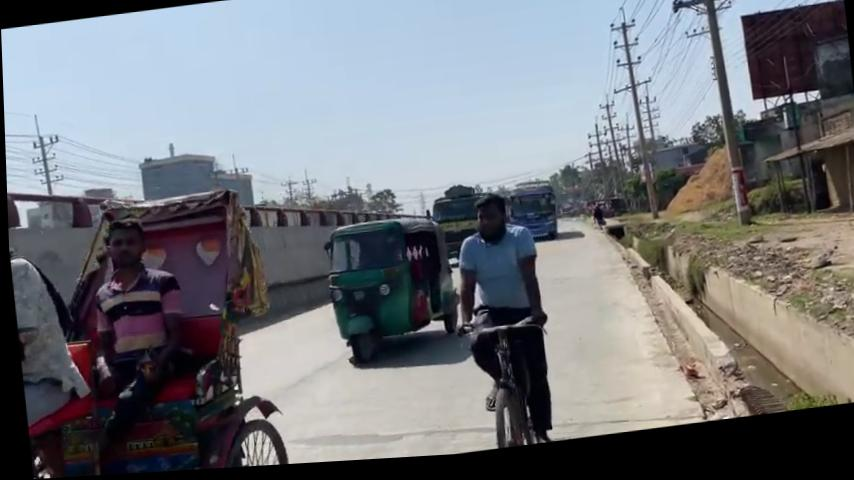Fence: (442, 193, 556, 458), (76, 213, 195, 447), (589, 209, 603, 238)
Garbage: (693, 0, 749, 238)
Garbage-bin: (679, 293, 854, 432)
Rickshaw: (317, 214, 460, 372), (501, 188, 557, 251)
